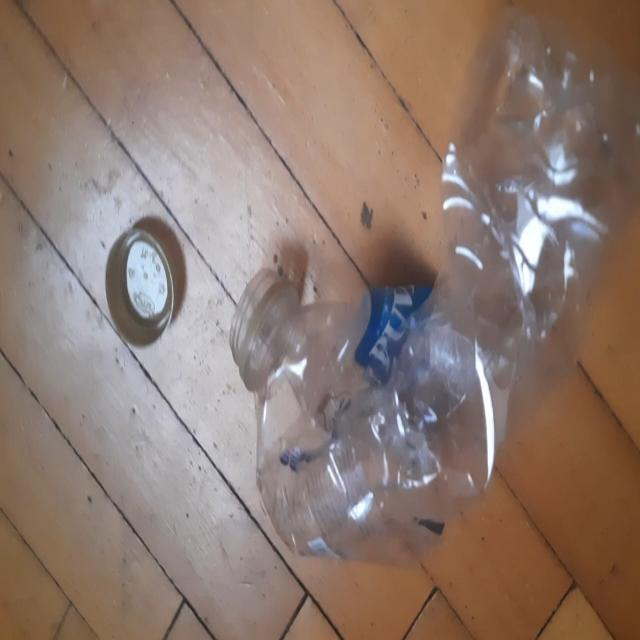Plastic: (229, 6, 636, 563)
